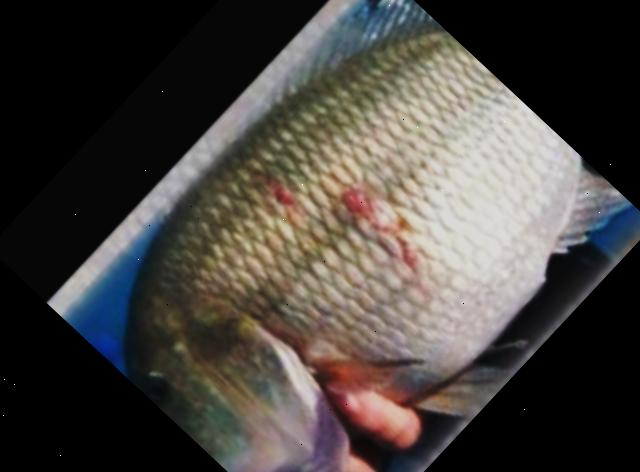Edwardsiella Ictaluri -Bacterial Red Disease-: (125, 0, 630, 472)
